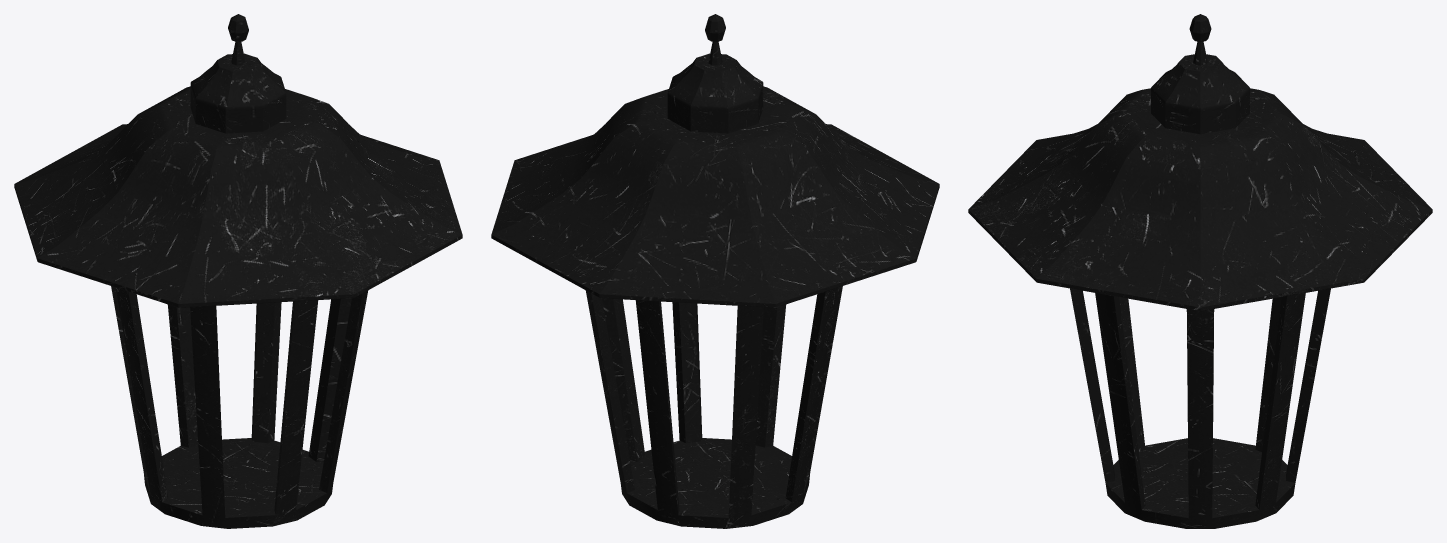
Rendered from Lantern.fbx.
3 renders of one model, left to right at view 1: azimuth 30°, elevation 25°; view 2: azimuth 150°, elevation 25°; view 3: azimuth 270°, elevation 25°, orthographic.
Visible parts, largest first — view 1: Cylinder; view 2: Cylinder; view 3: Cylinder.
Part boxes in pixels (x1=…): Cylinder: x1=14, y1=14, x2=462, y2=528; Cylinder: x1=491, y1=14, x2=939, y2=528; Cylinder: x1=968, y1=14, x2=1432, y2=528.
Size of the model in its own units: 0.2674 by 0.3023 by 0.2674.
